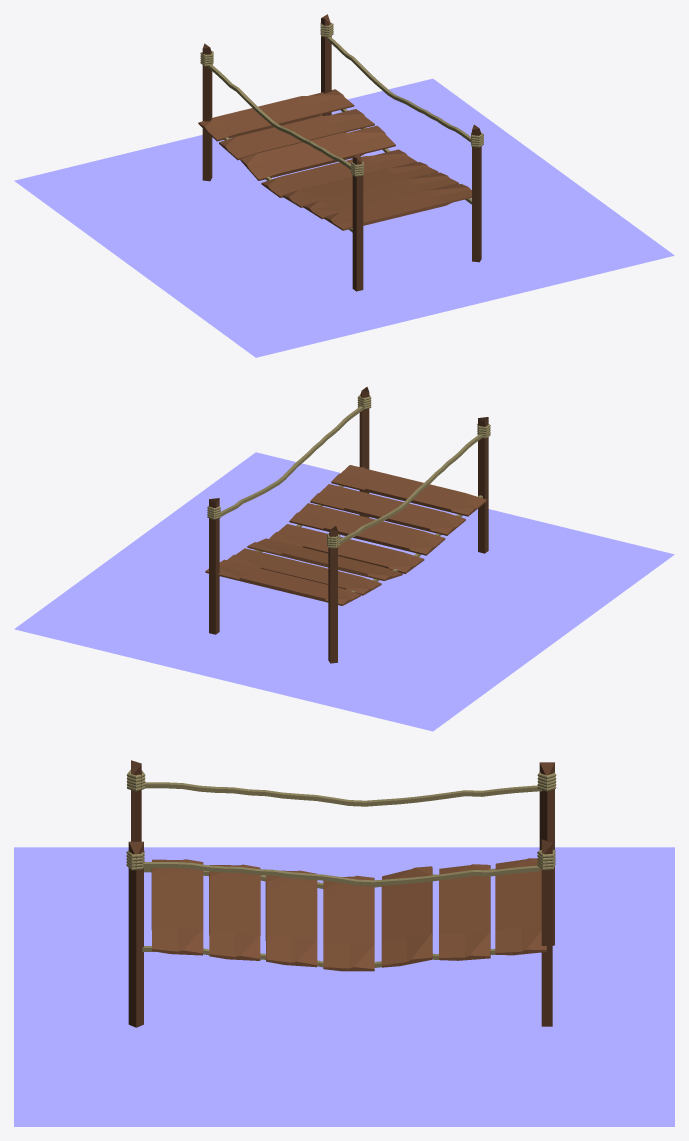
File: Quai.glb
3 views of the same model, one above another, from view 1: azimuth 30°, elevation 25°; view 2: azimuth 150°, elevation 25°; view 3: azimuth 270°, elevation 25° (orthographic). The views are drawn at different scales.
Visible parts, largest first — view 1: Plane, Cube.002, Cube, Cube.001, Cube.006, Cube.003, Cube.005, Cube.004, Cube.011, Cube.012, Cube.014, Cube.009 (+2 smaller); view 2: Plane, Cube.004, Cube.005, Cube.006, Cube.003, Cube, Cube.001, Cube.002, Cube.013, Cube.011, Cube.014, Cube.010 (+2 smaller); view 3: Plane, Cube.004, Cube.006, Cube.003, Cube.001, Cube.002, Cube.005, Cube, Cube.012, Cube.010, Cube.009, Cube.013 (+2 smaller).
Boxes of the visible parts, x1,y1,x2,y2 form: Plane: (14, 78, 674, 357); Cube.002: (240, 125, 395, 180); Cube: (198, 89, 354, 141); Cube.001: (219, 109, 374, 160); Cube.006: (324, 184, 471, 230); Cube.003: (261, 149, 416, 197); Cube.005: (303, 172, 458, 219); Cube.004: (282, 162, 438, 207); Cube.011: (352, 153, 363, 291); Cube.012: (472, 124, 481, 262); Cube.014: (202, 43, 212, 181); Cube.009: (327, 36, 470, 142); Plane: (14, 452, 674, 731); Cube.004: (289, 503, 445, 555); Cube.005: (310, 484, 465, 535); Cube.006: (331, 465, 486, 516); Cube.003: (269, 524, 424, 573); Cube: (205, 559, 360, 605); Cube.001: (227, 548, 381, 595); Cube.002: (247, 538, 402, 580); Cube.013: (209, 498, 219, 634); Cube.011: (478, 417, 488, 553); Cube.014: (328, 526, 337, 663); Cube.010: (340, 435, 482, 544); Plane: (14, 847, 674, 1126); Cube.004: (265, 870, 317, 967); Cube.006: (151, 859, 203, 955); Cube.003: (323, 875, 374, 971); Cube.001: (439, 864, 490, 960); Cube.002: (381, 866, 432, 967); Cube.005: (209, 864, 260, 960); Cube: (495, 858, 546, 955); Cube.012: (128, 841, 143, 1027); Cube.010: (145, 782, 542, 806); Cube.009: (143, 862, 539, 886); Cube.013: (541, 839, 552, 1026).
Bounding box in the file's own units: 25.74 × 8.98 × 25.74.
